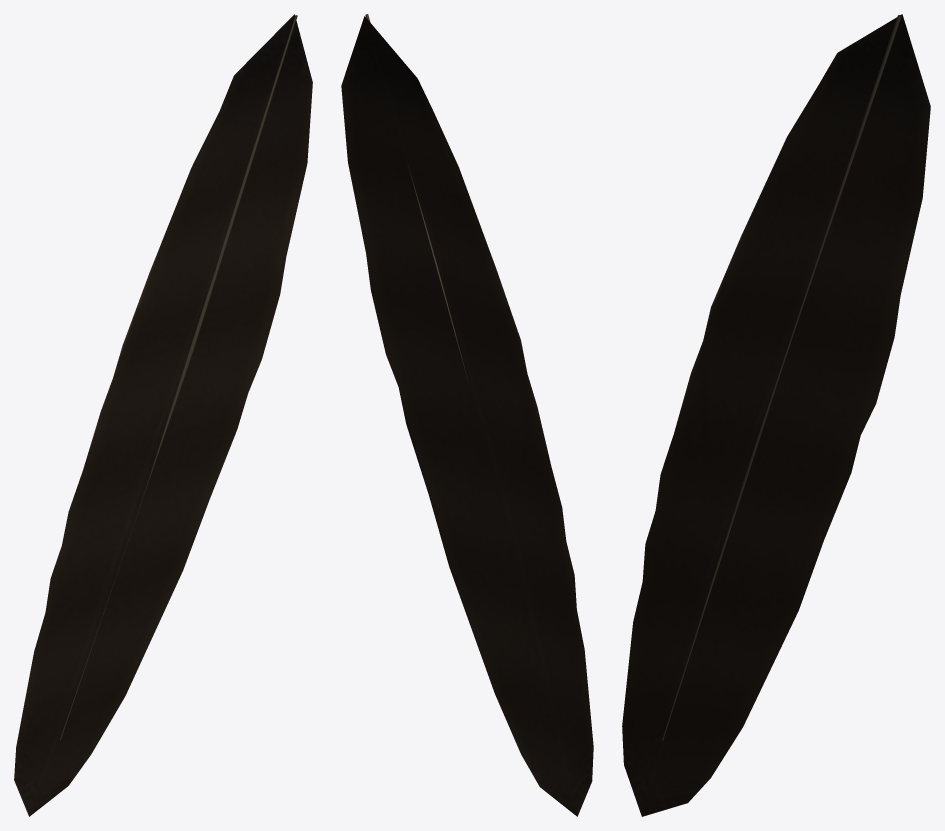
The model's file is bird_rectrix_01.obj.
The picture shows the model from 3 angles, left to right: view 1: azimuth 30°, elevation 25°; view 2: azimuth 150°, elevation 25°; view 3: azimuth 330°, elevation 25°; orthographic projection. The views are drawn at different scales.
Parts seen in each view (by area): view 1: PIECE_BIRD_RECTRIX_RIG_01; view 2: PIECE_BIRD_RECTRIX_RIG_01; view 3: PIECE_BIRD_RECTRIX_RIG_01.
Boxes of the visible parts, left/top/right/bottom form: PIECE_BIRD_RECTRIX_RIG_01: left=14, top=14, right=312, bottom=816; PIECE_BIRD_RECTRIX_RIG_01: left=341, top=14, right=593, bottom=816; PIECE_BIRD_RECTRIX_RIG_01: left=622, top=14, right=930, bottom=816.
Bounding box in the file's own units: 0.0647 × 0.1678 × 0.0097.
1 material, 1 textured.
